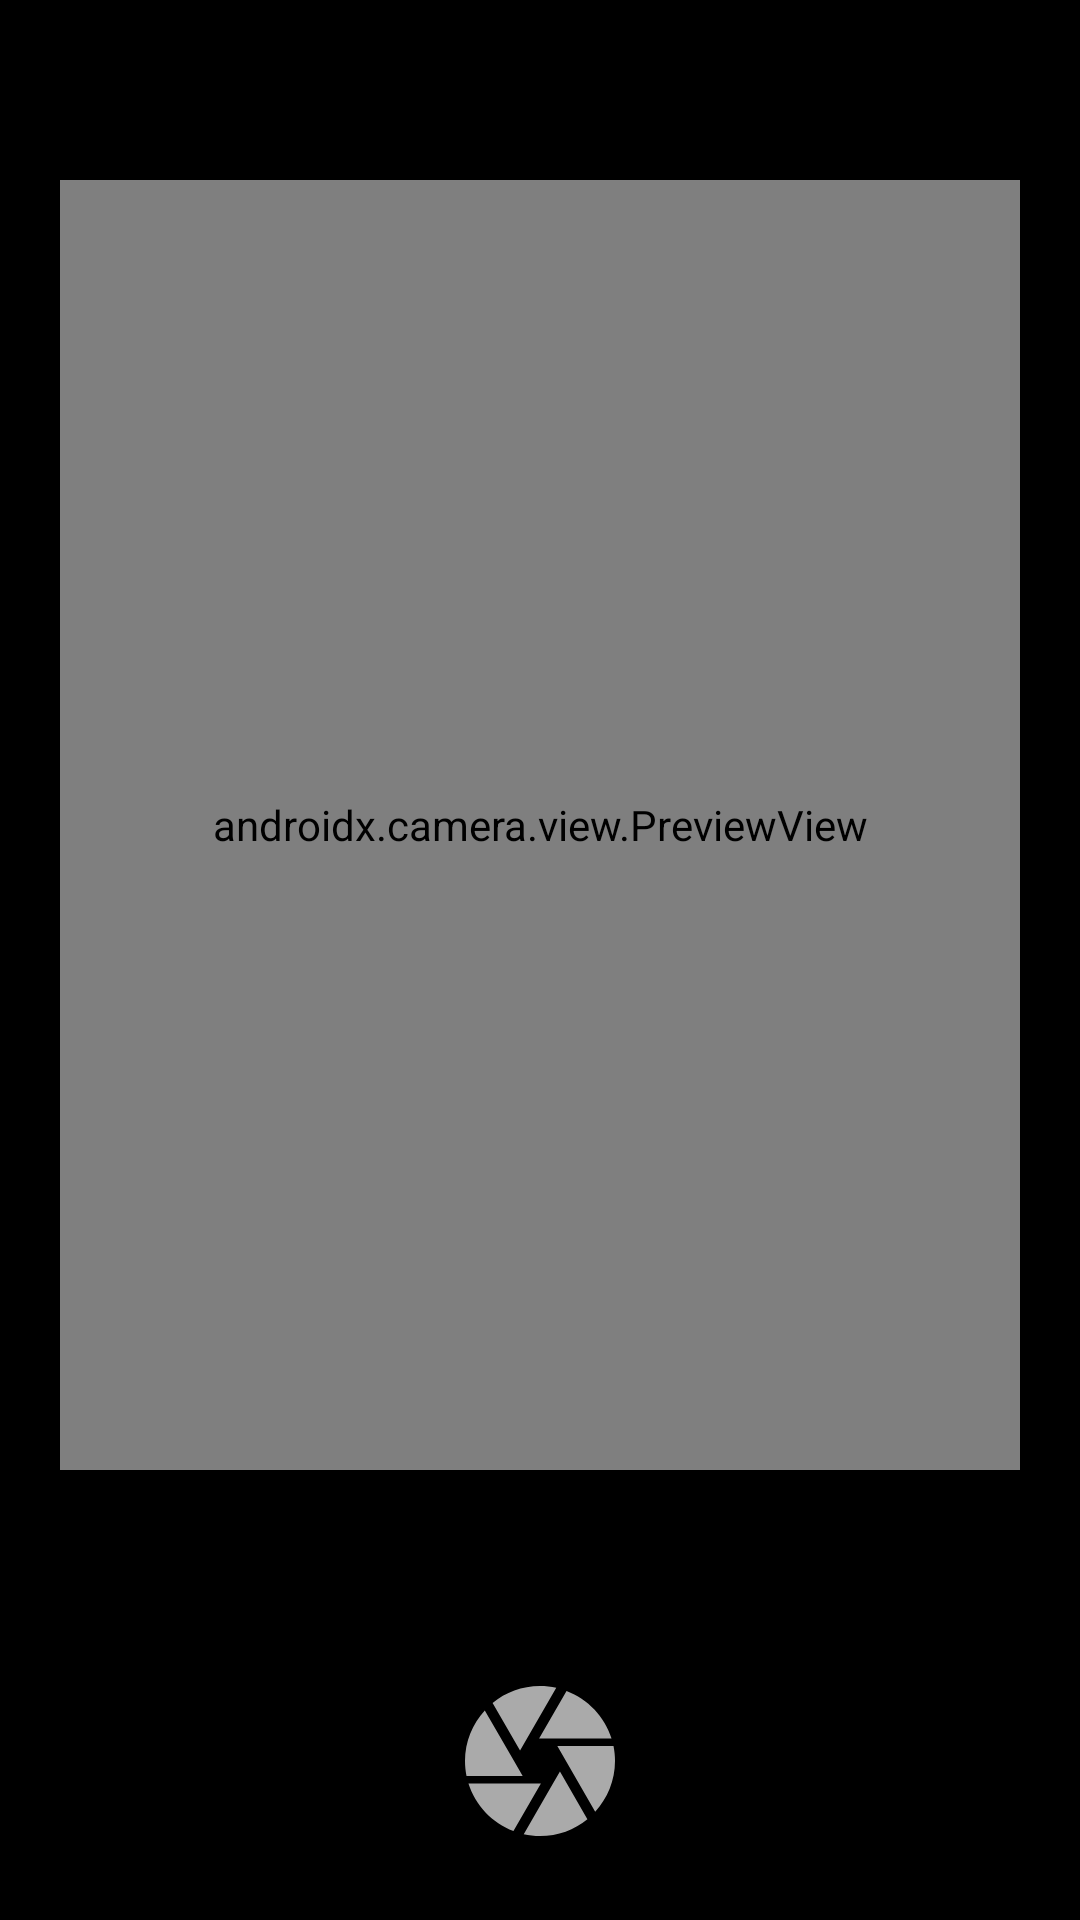

Where to tap for icons on this 1080*1920 app screen, as point (x, y):
camera: point (540, 1761)
